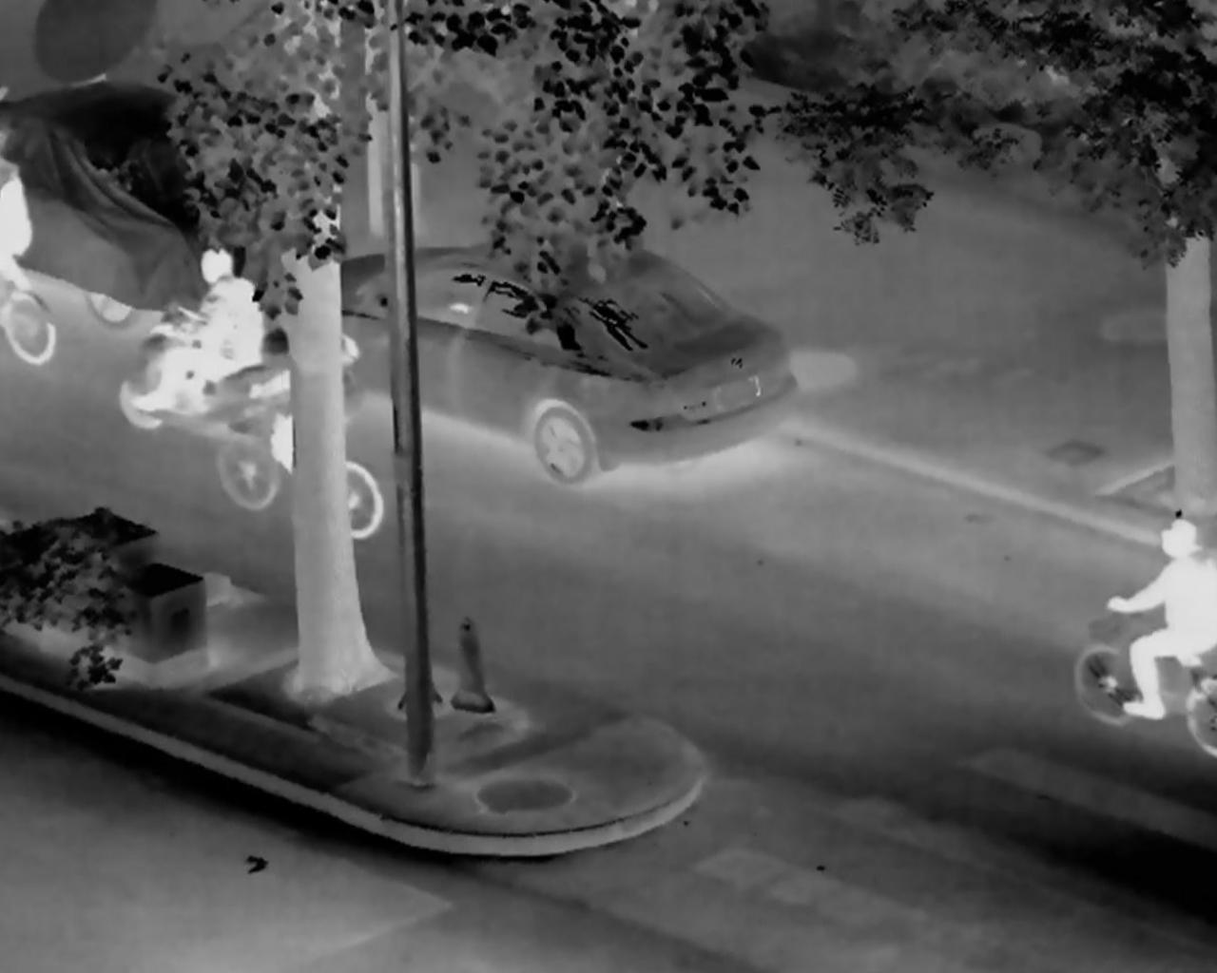person: (131, 248, 265, 414), (1110, 521, 1217, 722), (255, 320, 356, 473)
